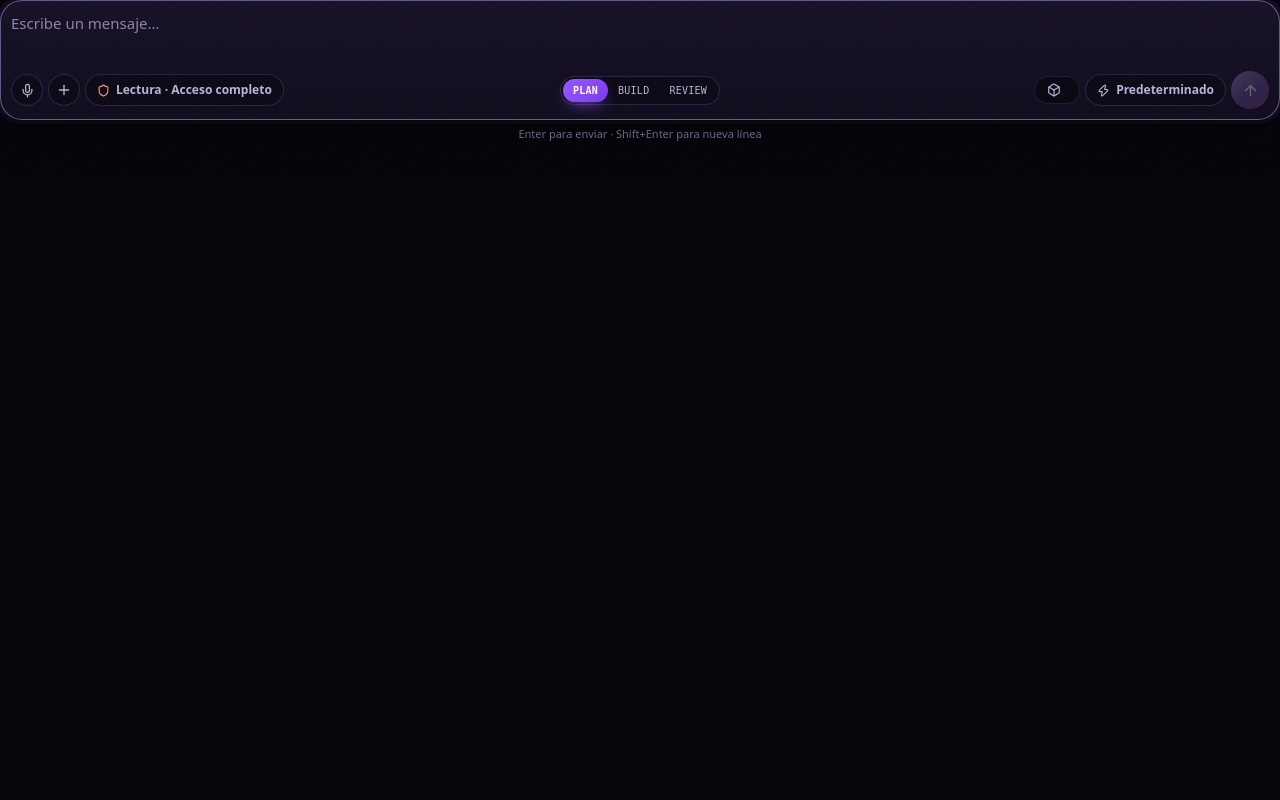
Scenario: allows changing read scope in PLAN while showing immutable execution
Step 1. Click the button titled "Permisos de este chat" → (184,90), box [85, 74, 284, 106]
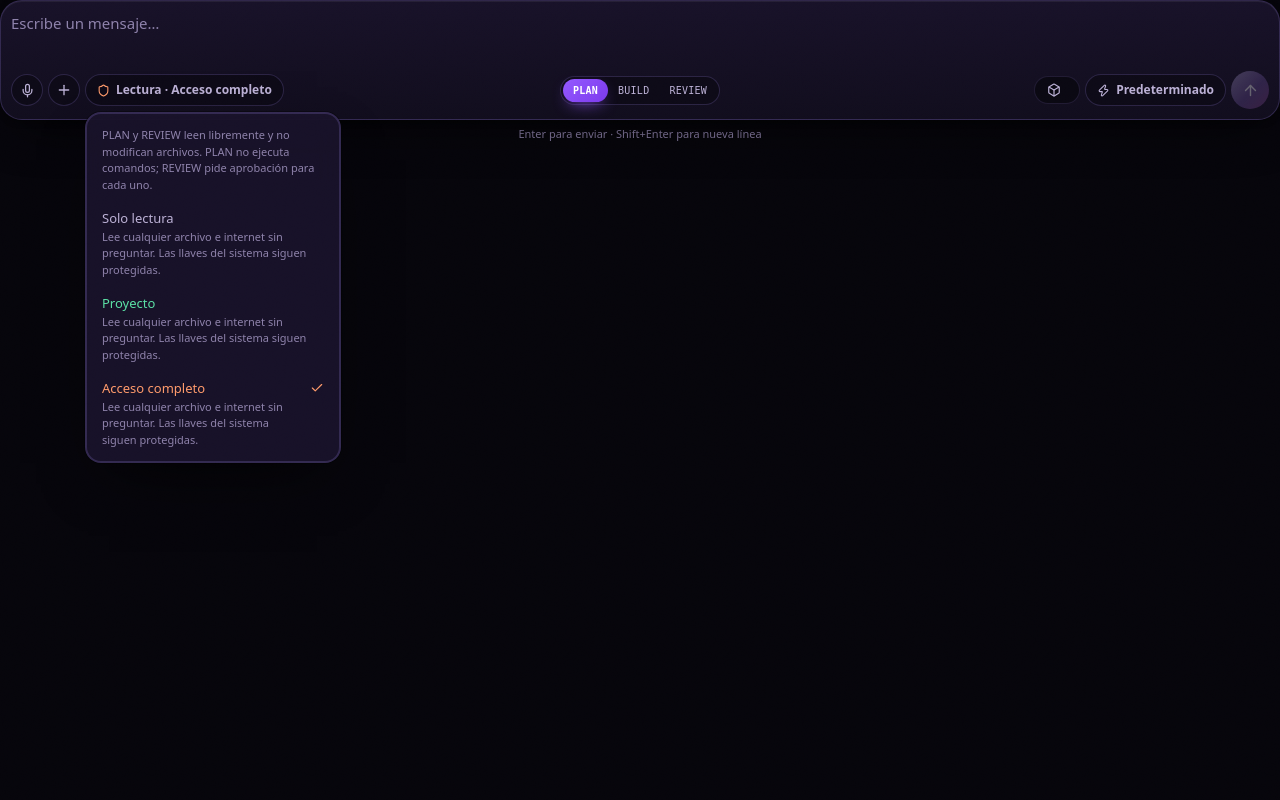
Result: the text "PLAN y REVIEW leen libremente" is shown at [102, 127, 314, 192]
Step 2. Click the button "Proyecto" → (213,328), box [92, 286, 334, 371]
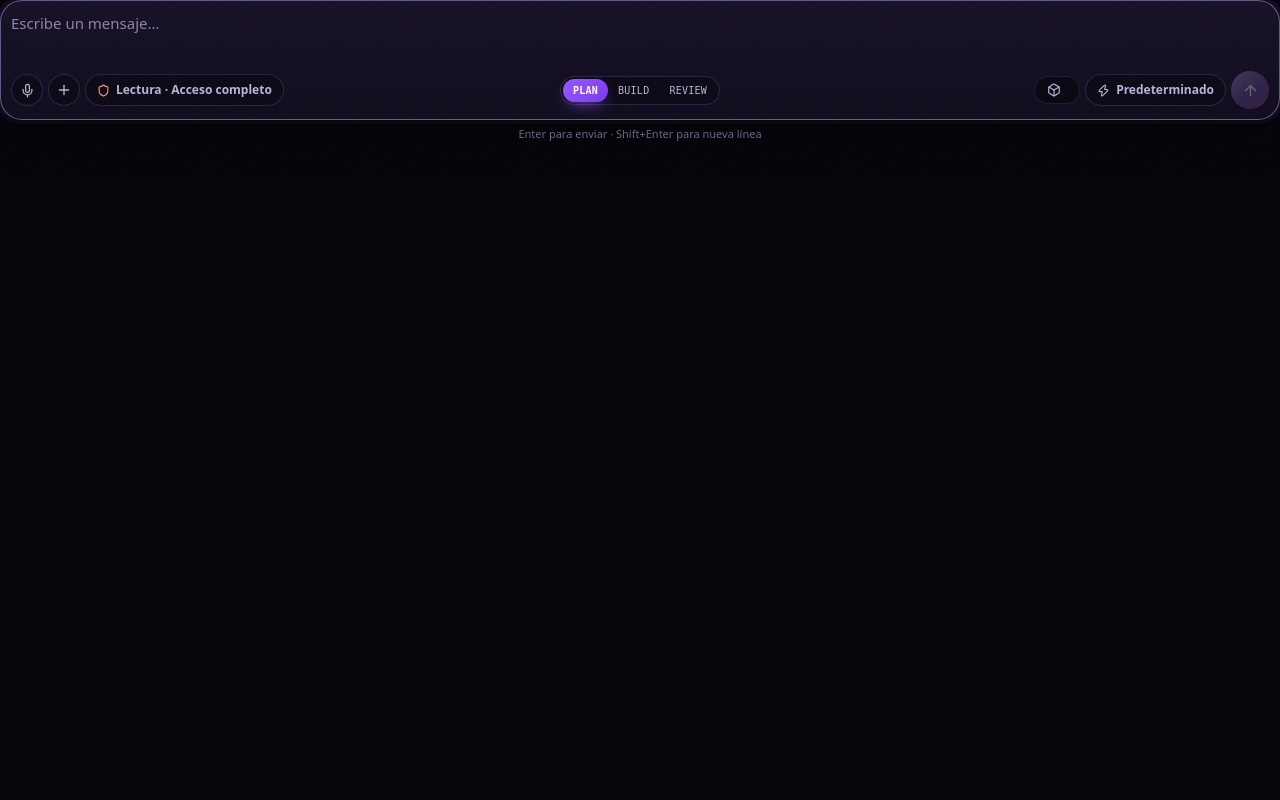
Result: the dialog is gone
